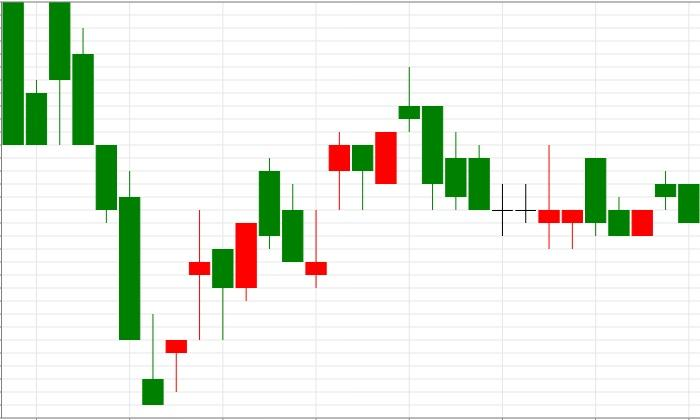inverse_hammer_rise: (49, 2, 164, 404)
